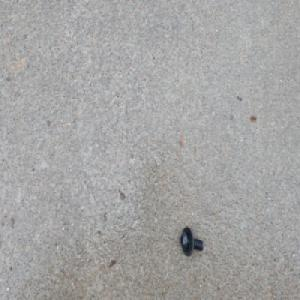BoltWasher: (179, 226, 203, 258)
